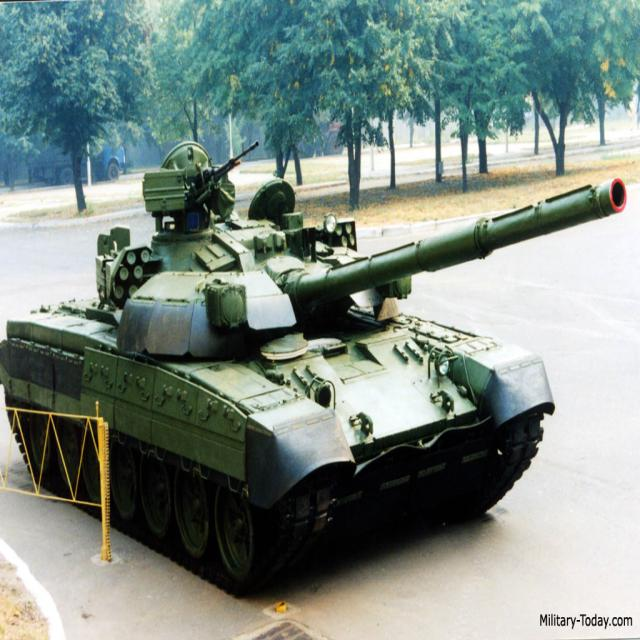Tank: (13, 148, 578, 571)
